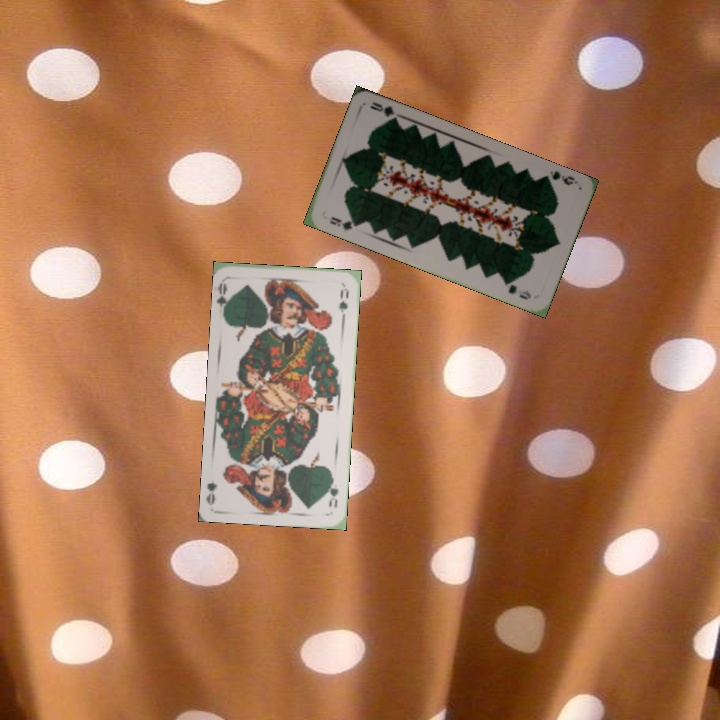G9: (539, 167, 577, 188), (326, 213, 362, 234)
GO: (214, 277, 234, 318), (324, 472, 341, 510)
